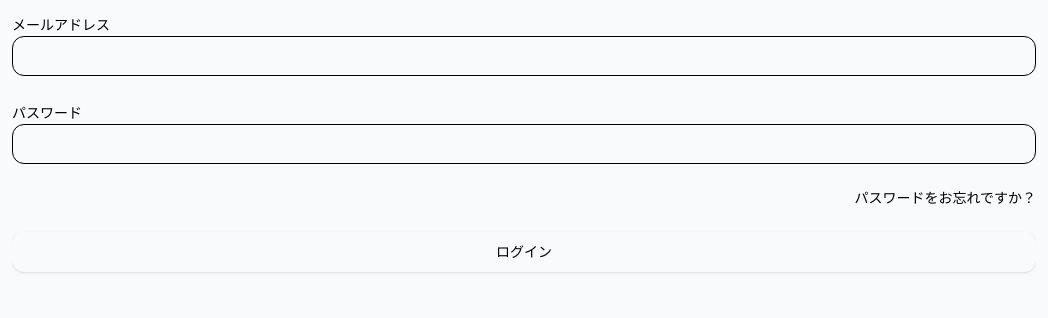
Test case: LoginForm › 無効なメールアドレス形式でバリデーションエラーが表示される
Type "invalid-email" into the field labelled "メールアドレス" at (524, 56), box [12,36,1036,76]
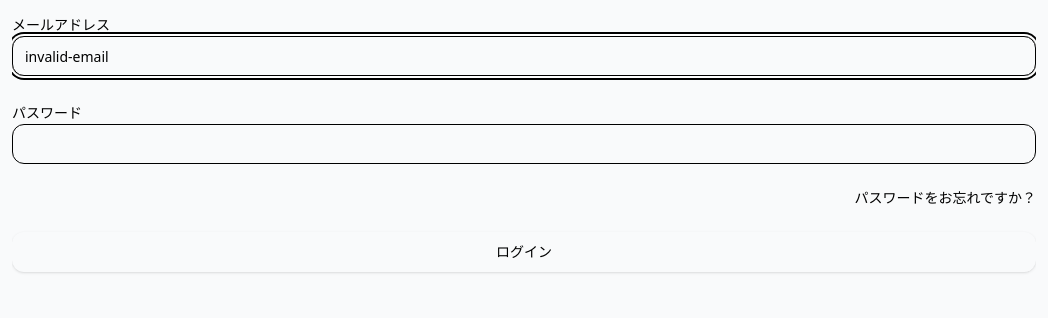
Press Tab
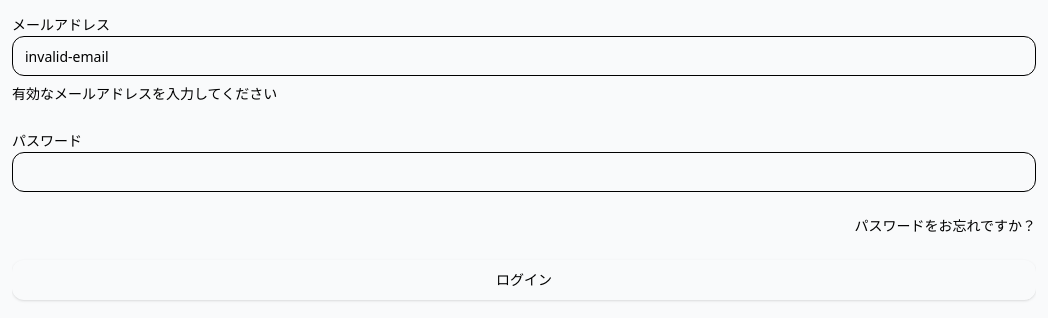
Expected: the text "有効なメールアドレスを入力してください" is shown, [12,84,277,103]
